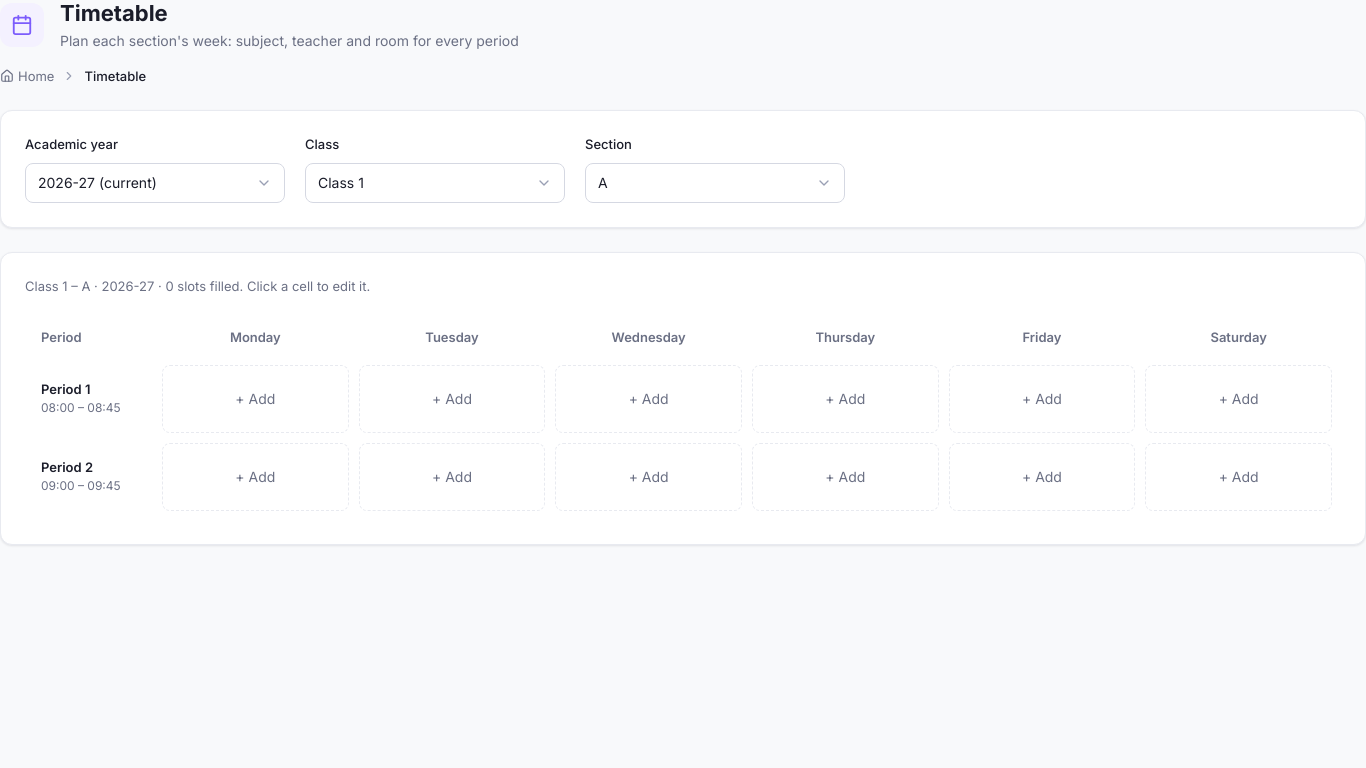
it: TimetableAdminComponent › click an empty cell -> dialog with the class's subjects and the teachers; Save posts the assignment and reloads the grid
Click the 3rd button with class "cell" at (649, 398), box [555,364,742,432]
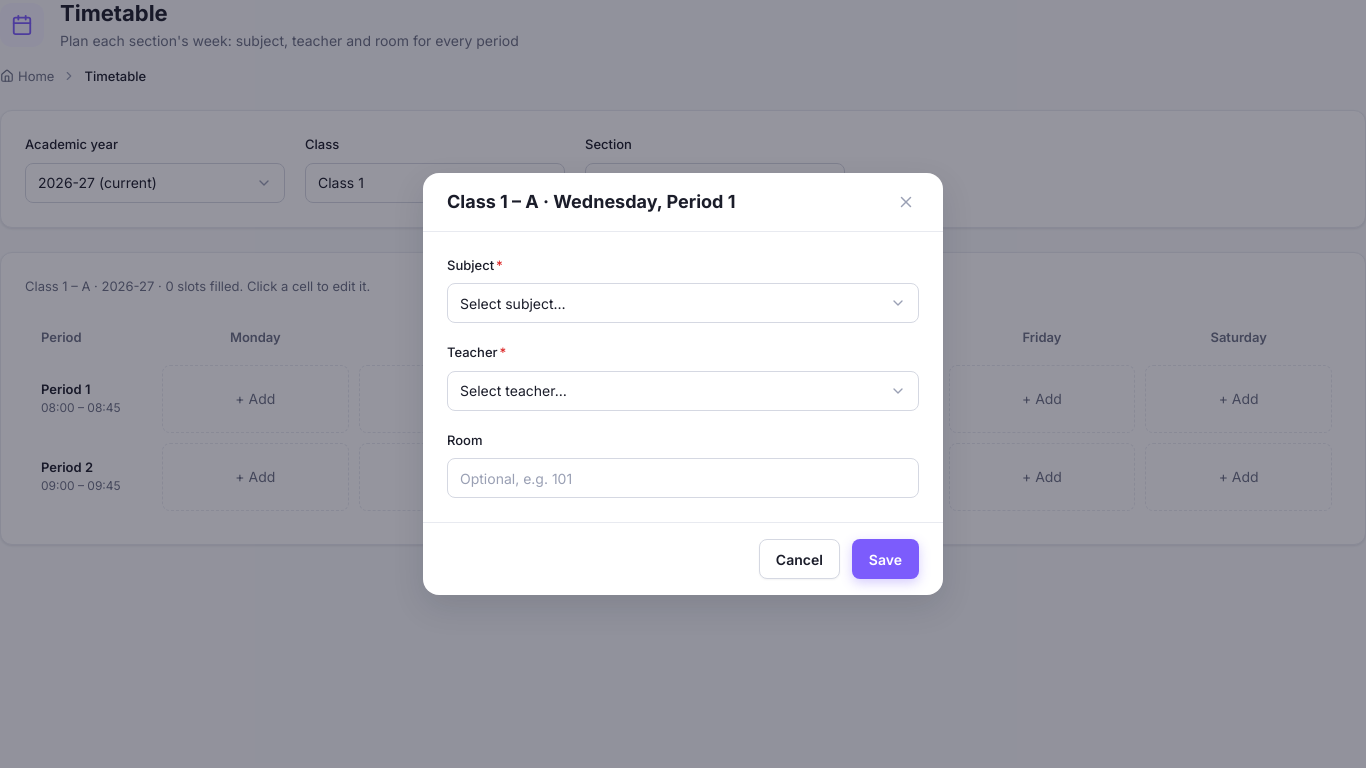
Now the text "Class 1 – A · Wednesday, Period 1" is shown, box [447,190,736,213]
